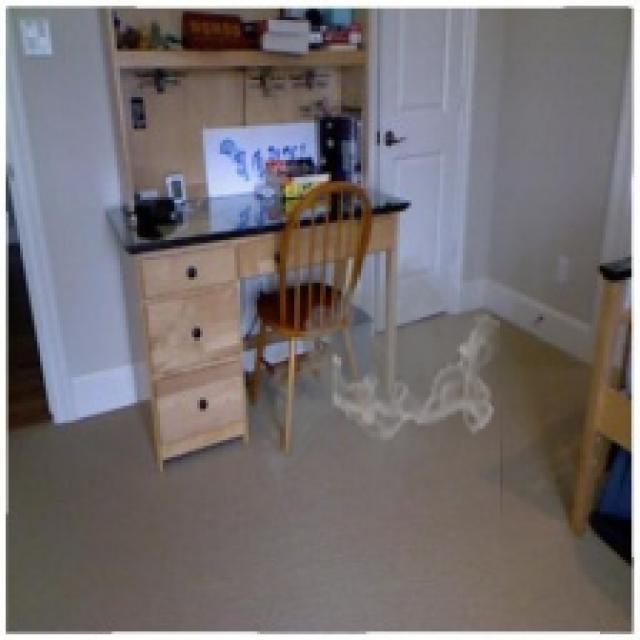Smoke: (254, 242, 503, 514)
